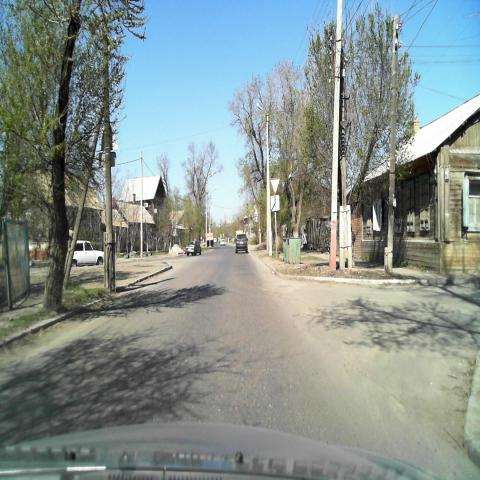8_13: (270, 193, 280, 211)
